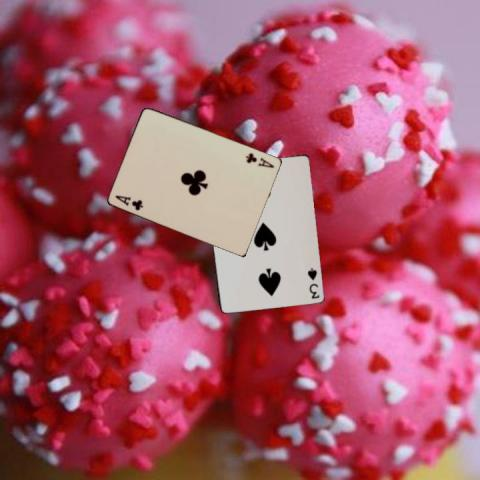3s: (304, 265, 320, 300)
Ac: (112, 192, 144, 212), (244, 150, 276, 169)
